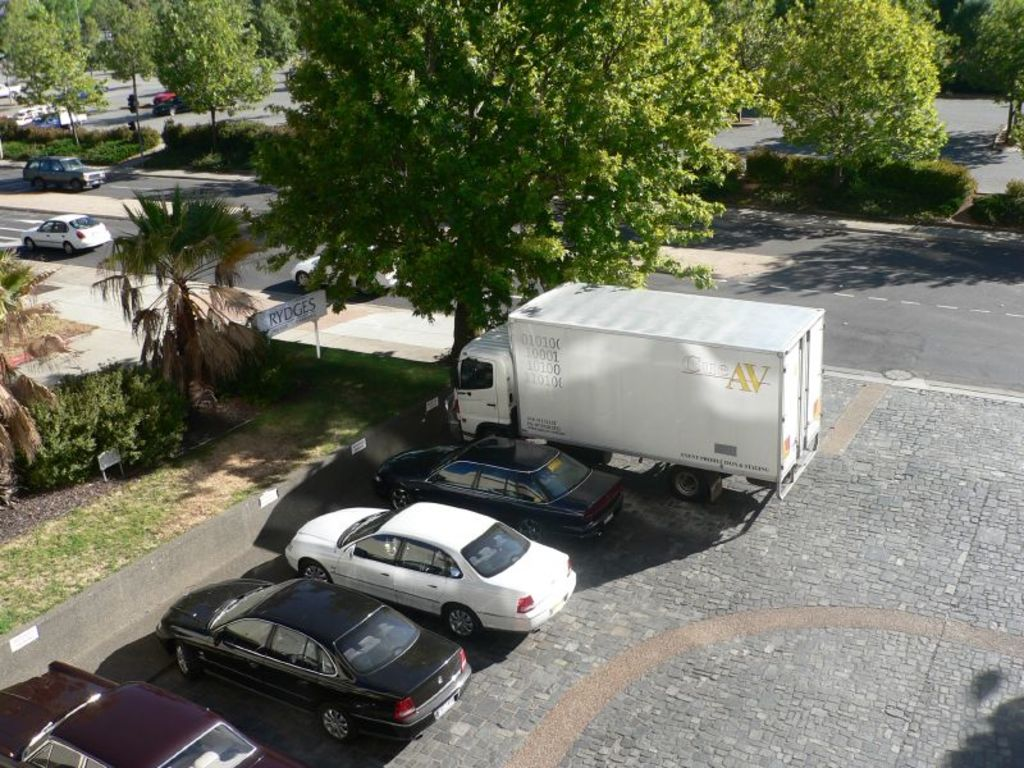Car: (0, 436, 623, 766), (20, 212, 111, 253), (23, 152, 106, 192), (149, 90, 200, 116), (151, 88, 175, 101)
